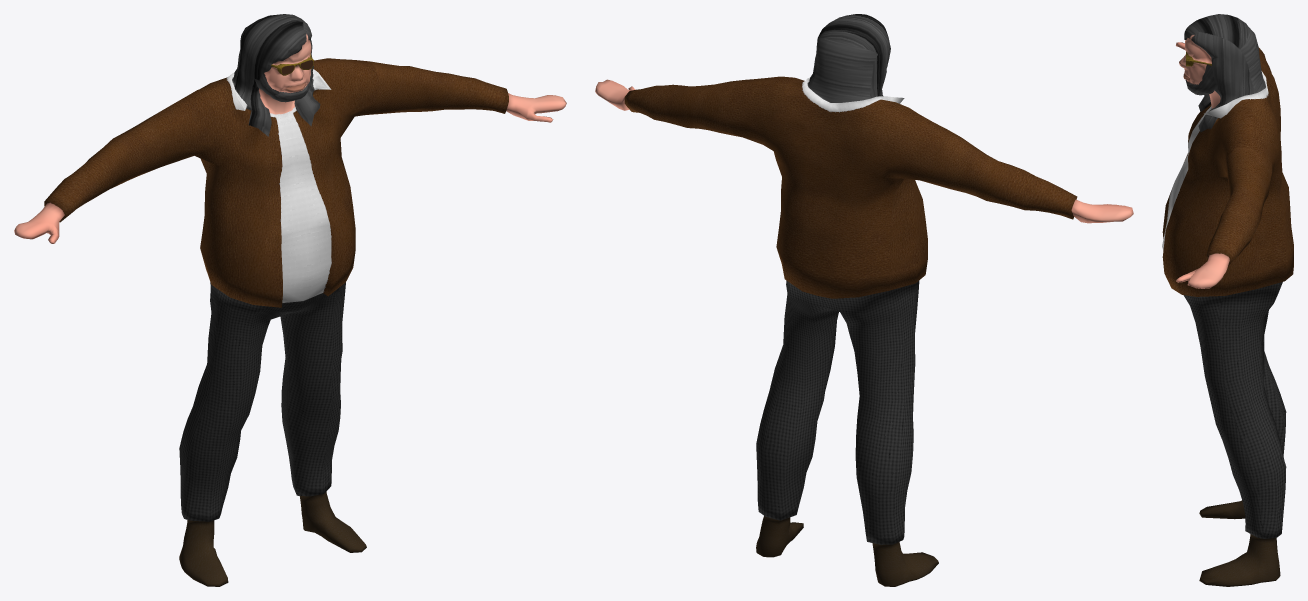
File: rossem.fbx
3 views of the same model, side by side, from view 1: azimuth 30°, elevation 25°; view 2: azimuth 150°, elevation 25°; view 3: azimuth 270°, elevation 25° (orthographic). The views are drawn at different scales.
Parts seen in each view (by area): view 1: apply.003; view 2: apply.003; view 3: apply.003.
Boxes of the visible parts, x1,y1,x2,y2 form: apply.003: (14,14,566,586); apply.003: (595,14,1133,586); apply.003: (1162,14,1293,586).
Bounding box in the file's own units: 184 × 39.52 × 175.
1 material, 1 textured.
